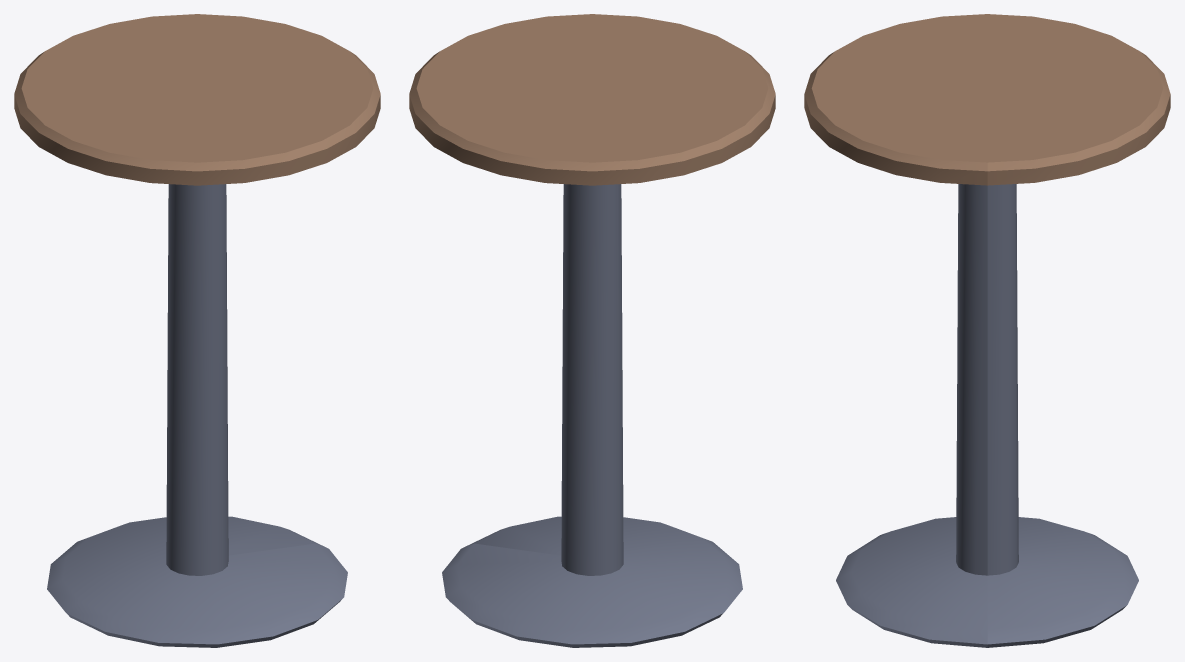
File: highTable.glb
The picture shows the model from 3 angles, left to right: view 1: azimuth 30°, elevation 25°; view 2: azimuth 150°, elevation 25°; view 3: azimuth 270°, elevation 25°; orthographic projection.
Visible parts, largest first — view 1: high-table; view 2: high-table; view 3: high-table.
Boxes of the visible parts, left/top/right/bottom form: high-table: left=14, top=14, right=380, bottom=647; high-table: left=409, top=14, right=775, bottom=647; high-table: left=804, top=14, right=1170, bottom=647.
Bounding box in the file's own units: 0.7 × 1.05 × 0.7.
